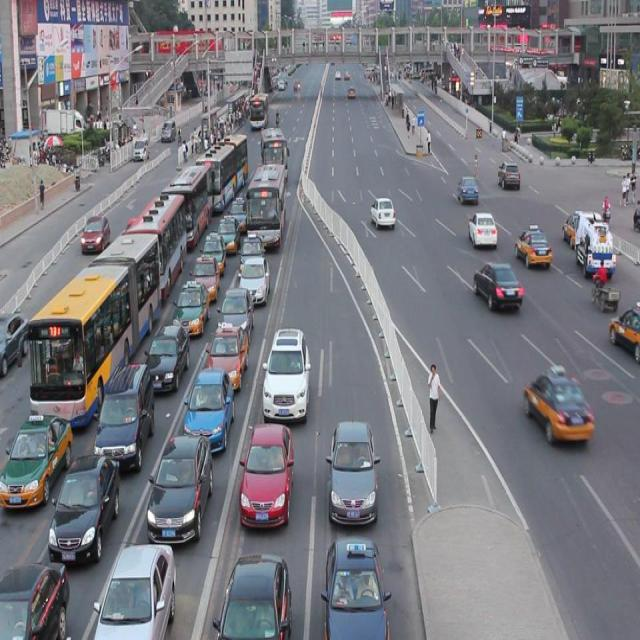bus: (574, 210, 615, 276)
car: (94, 538, 175, 640), (48, 452, 120, 554), (321, 535, 389, 640), (148, 428, 213, 536), (214, 551, 290, 640), (0, 411, 70, 503), (94, 358, 154, 461), (0, 554, 68, 640), (327, 417, 380, 517), (523, 362, 592, 438), (240, 422, 294, 517), (262, 325, 310, 415), (185, 364, 233, 442), (146, 317, 189, 386), (205, 320, 248, 384), (472, 260, 522, 308), (218, 284, 254, 339), (1, 310, 30, 375), (174, 278, 210, 330), (606, 306, 640, 357), (514, 222, 551, 268), (241, 252, 270, 298), (190, 250, 220, 294), (561, 210, 590, 247), (200, 229, 226, 269), (468, 212, 496, 247), (240, 228, 263, 270), (82, 216, 110, 250), (216, 210, 239, 246), (227, 191, 250, 226), (370, 197, 396, 226), (497, 161, 520, 191), (456, 175, 477, 204), (123, 218, 142, 238)
van: (16, 230, 160, 421), (123, 187, 186, 296), (197, 125, 247, 203), (247, 162, 286, 250), (168, 158, 208, 241), (260, 128, 290, 178)
